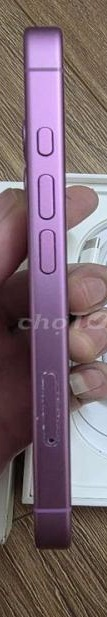scratch: (18, 362, 88, 447)
